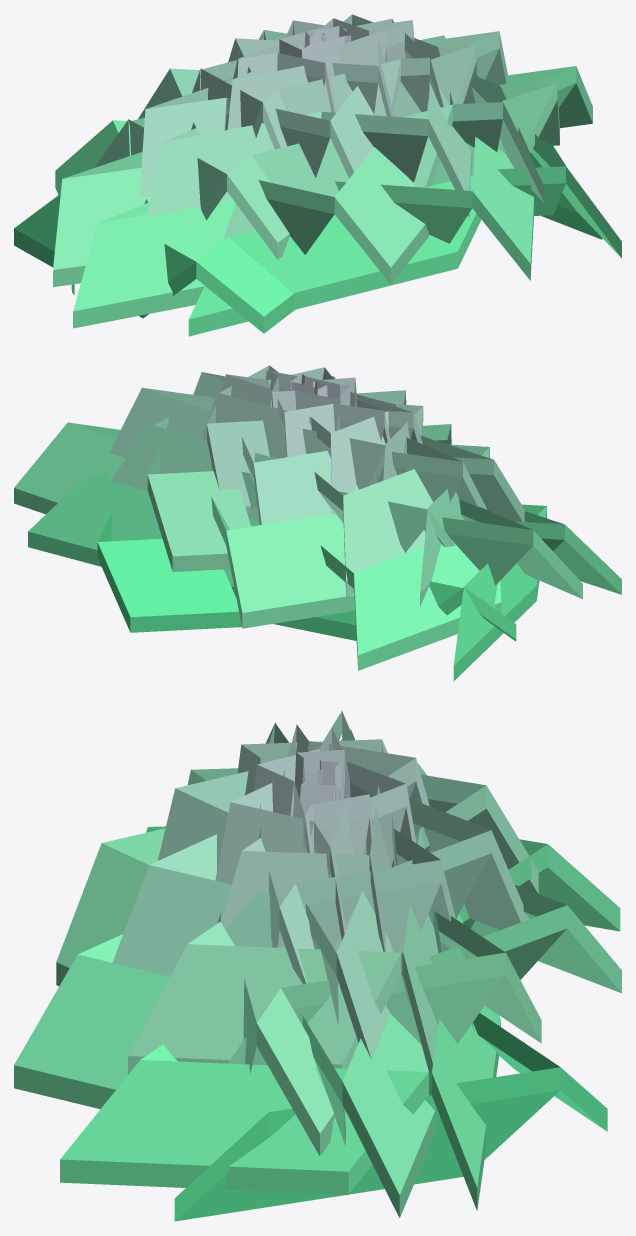
The model's file is MovingMoss.glb.
The picture shows the model from 3 angles, top to bottom: view 1: azimuth 30°, elevation 25°; view 2: azimuth 150°, elevation 25°; view 3: azimuth 270°, elevation 25°; orthographic projection. The views are drawn at different scales.
Parts seen in each view (by area): view 1: moss; view 2: moss; view 3: moss.
Part boxes in pixels (x1,y1,x2,y2): moss: [14, 14, 621, 336]; moss: [14, 365, 621, 681]; moss: [14, 711, 621, 1221].
Size of the model in its own units: 72.67 by 26.08 by 47.5.
